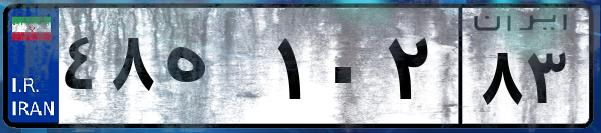0: (330, 28, 385, 110)
1: (270, 28, 330, 110)
2: (385, 28, 445, 110)
3: (525, 38, 570, 115)
4: (57, 26, 110, 100)
8: (475, 38, 525, 113), (110, 28, 158, 98)
ه: (158, 20, 270, 120)
